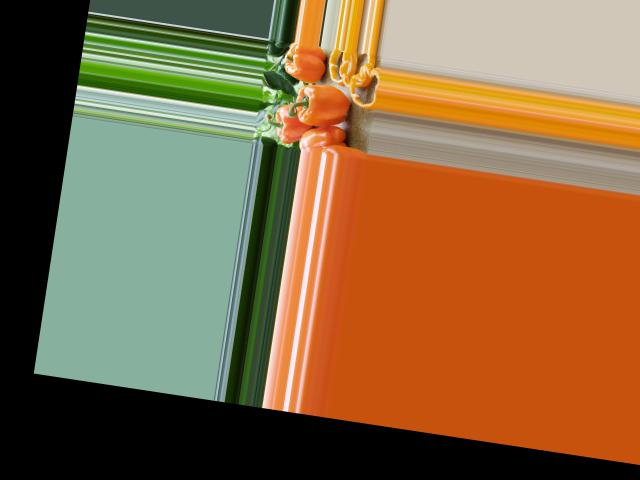bell_pepper: (297, 121, 350, 156)
